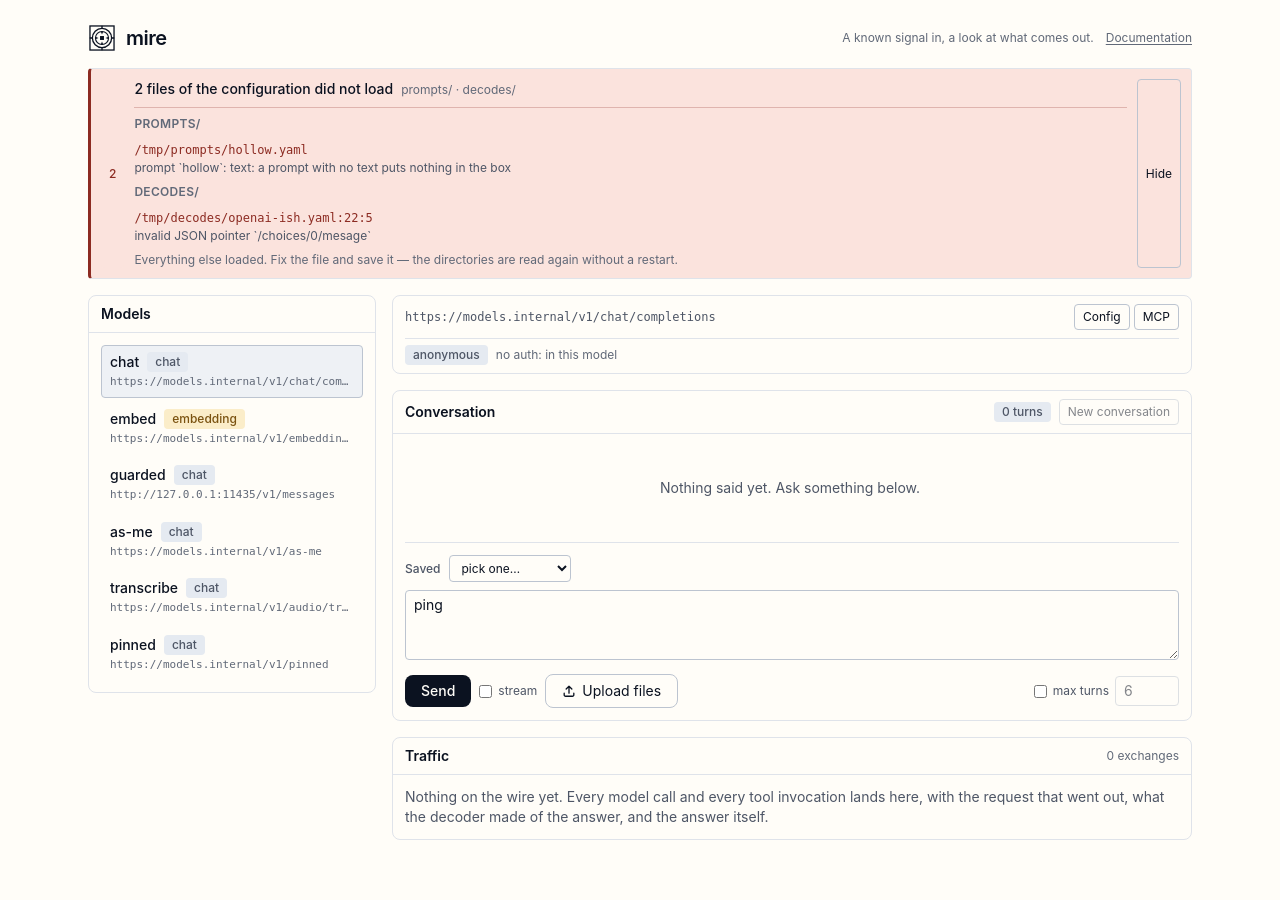
App › says when a model names a credential that cannot reach it
Click the button "pinned chat https://models.internal/v1/pinned". click: coordinates (232, 654)
box: [110,634,354,673]
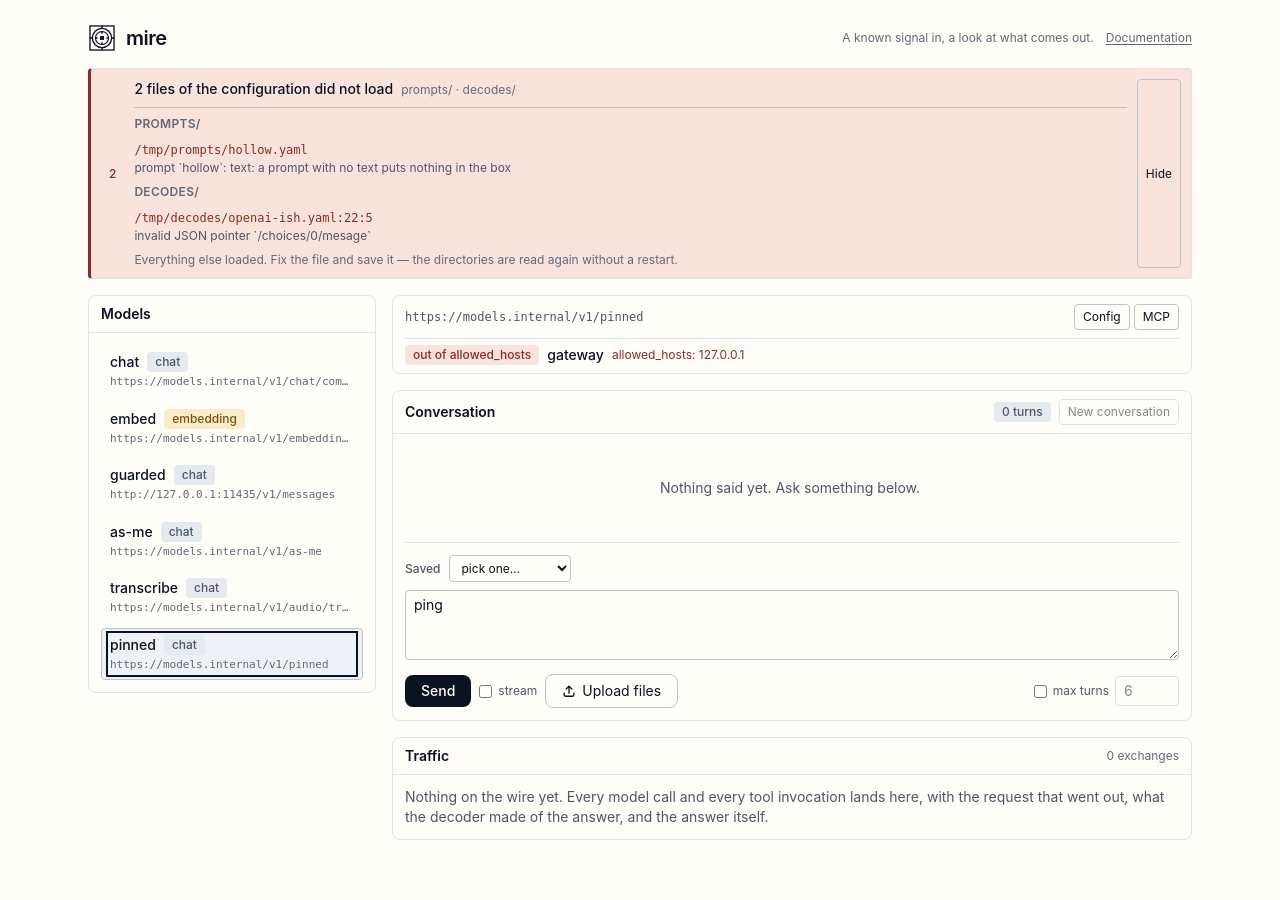
Result: the text "out of allowed_hosts" is shown at [405,345,539,365]
Result: the element named "What the next call will do" shows "allowed_hosts:" at [612,347,744,362]
Click the button "guarded chat http://127.0.0.1:11435/v1/messages". click: coordinates (232, 484)
box: [110,465,354,504]
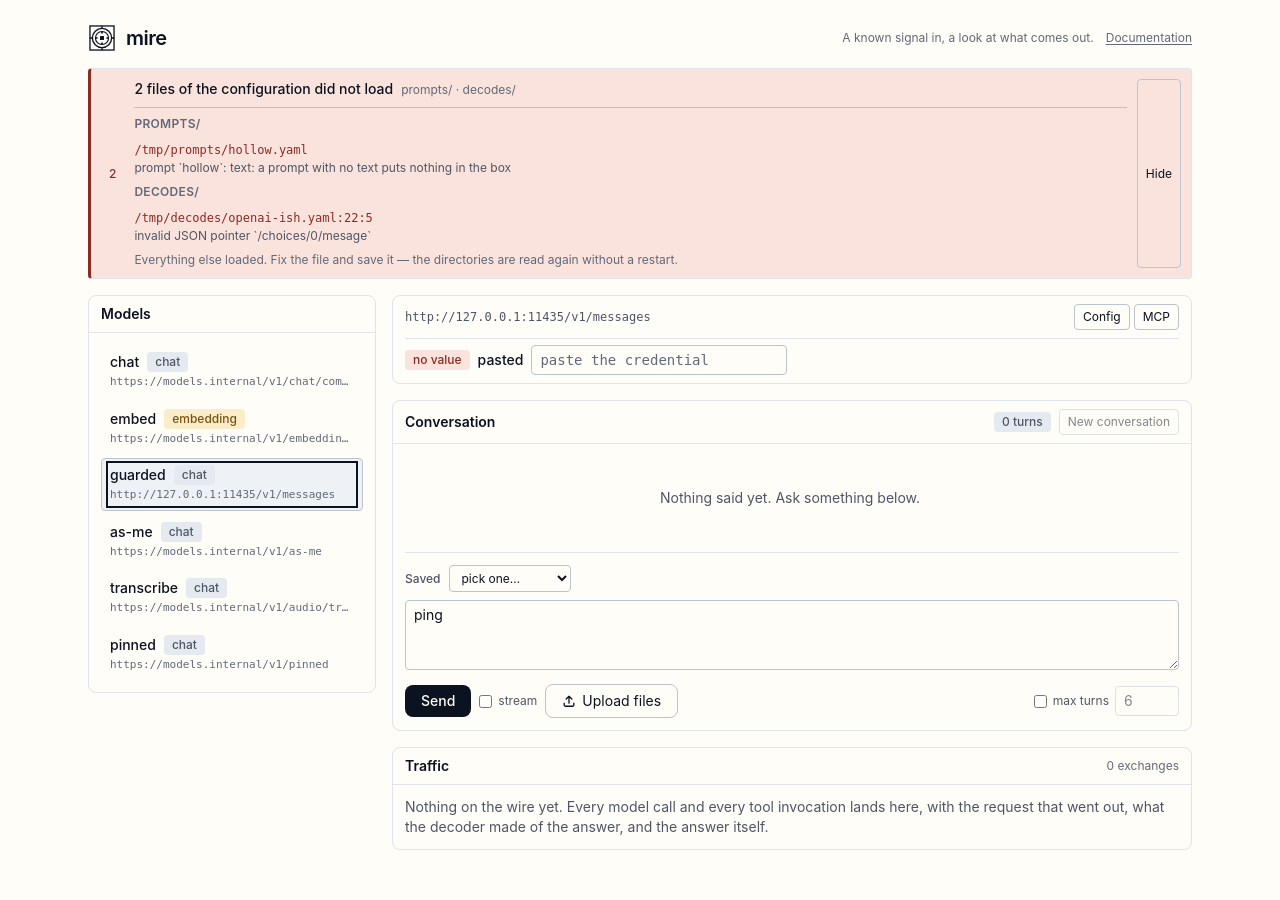
Result: the text "out of allowed_hosts" is gone
